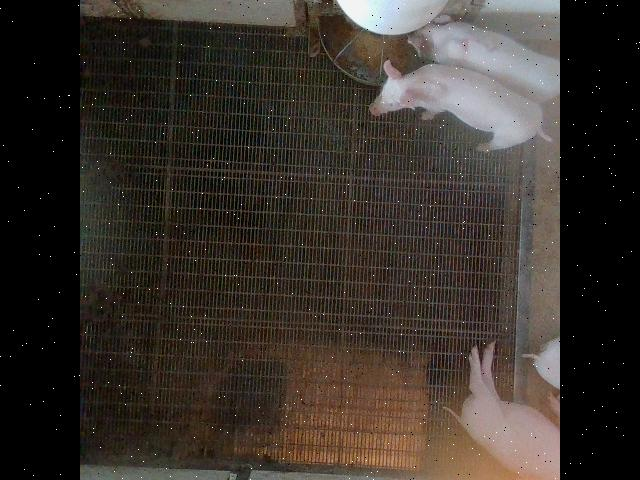pig-5: (409, 15, 559, 102)
